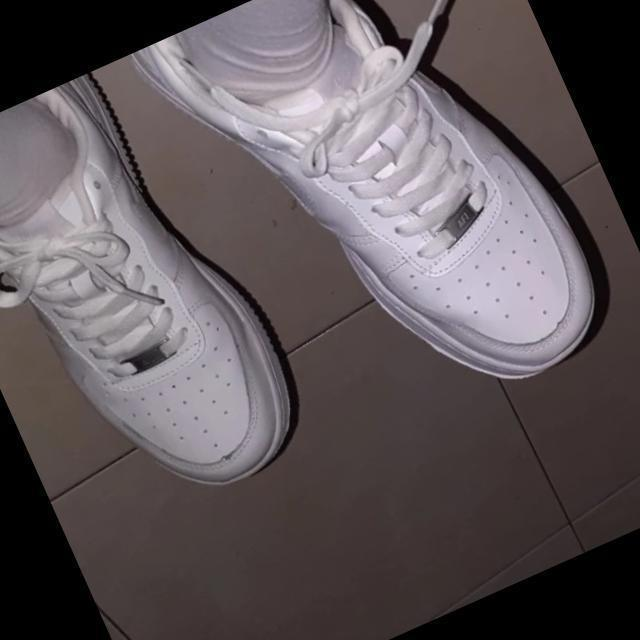nike fake air force: (130, 0, 632, 475), (0, 46, 327, 554)
